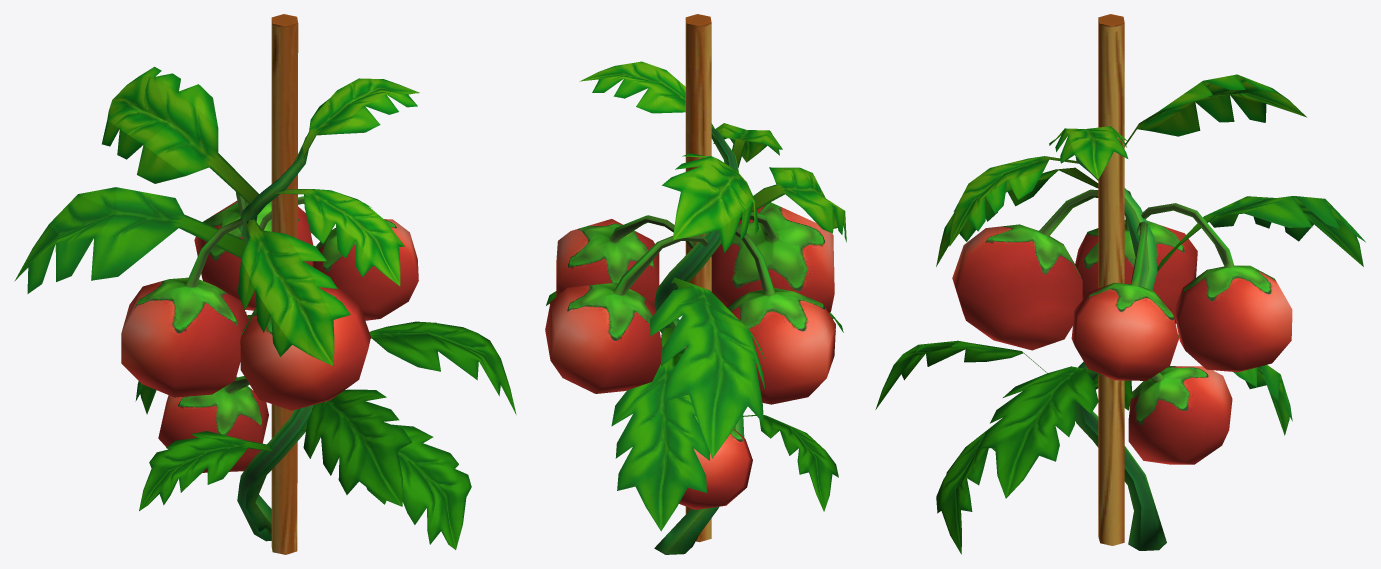
File: tomato-plant.glb
3 views of the same model, side by side, from view 1: azimuth 30°, elevation 25°; view 2: azimuth 150°, elevation 25°; view 3: azimuth 270°, elevation 25° (orthographic). The views are drawn at different scales.
Size of the model in its own units: 0.3262 by 0.4748 by 0.4068.
1 material, 1 textured.
